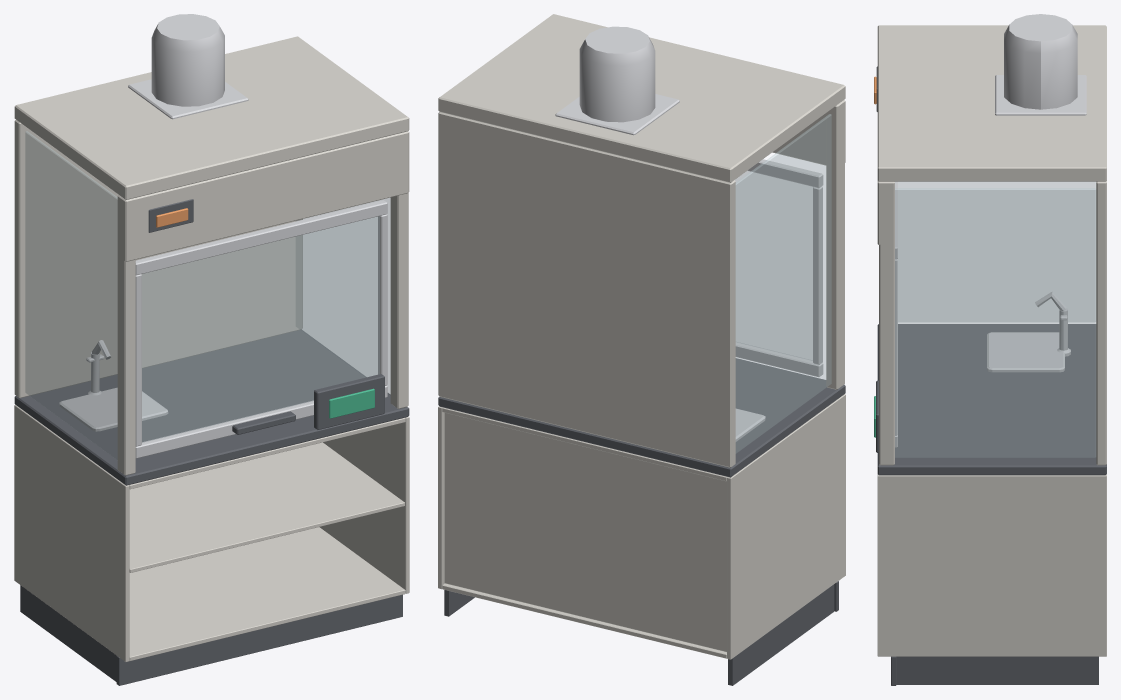
File: university-lecture-hall-and-campus-fume-cupboard-54011203__34756.glb
The picture shows the model from 3 angles, left to right: view 1: azimuth 30°, elevation 25°; view 2: azimuth 150°, elevation 25°; view 3: azimuth 270°, elevation 25°; orthographic projection. The views are drawn at different scales.
Parts seen in each view (by area): view 1: fume-cupboard, sash/glass, sash/metal, sash/dark; view 2: fume-cupboard, sash/glass, sash/metal; view 3: fume-cupboard, sash/metal.
Part boxes in pixels (bbox=[...]): fume-cupboard: bbox=[14, 14, 409, 685]; sash/glass: bbox=[142, 216, 379, 442]; sash/metal: bbox=[135, 200, 387, 458]; sash/dark: bbox=[232, 411, 295, 434]; fume-cupboard: bbox=[438, 14, 845, 685]; sash/glass: bbox=[735, 171, 812, 360]; sash/metal: bbox=[735, 159, 823, 376]; fume-cupboard: bbox=[874, 14, 1106, 685]; sash/metal: bbox=[895, 181, 897, 447].
Bounding box in the file's own units: 1.25 × 2.4 × 0.863.
